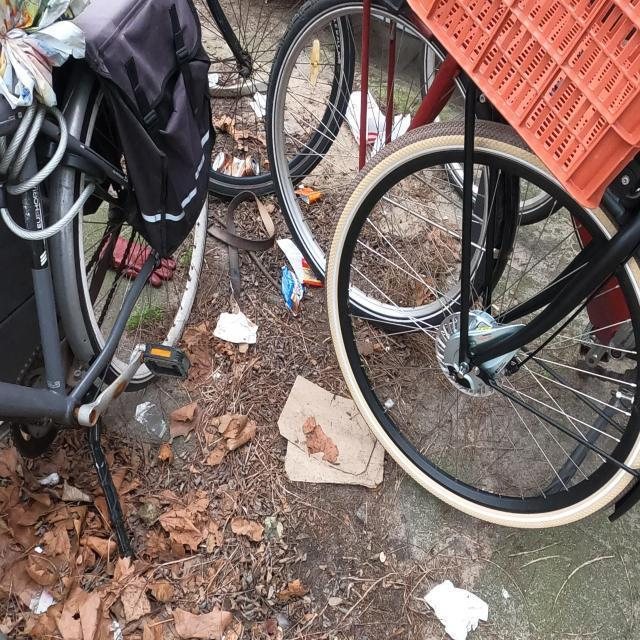Can-Metal: (212, 151, 260, 178)
Paper: (424, 579, 489, 640), (346, 90, 386, 146), (213, 305, 259, 344), (276, 238, 304, 284), (294, 184, 322, 204), (250, 91, 266, 118)
Plastic: (281, 266, 306, 316), (134, 402, 167, 439)
